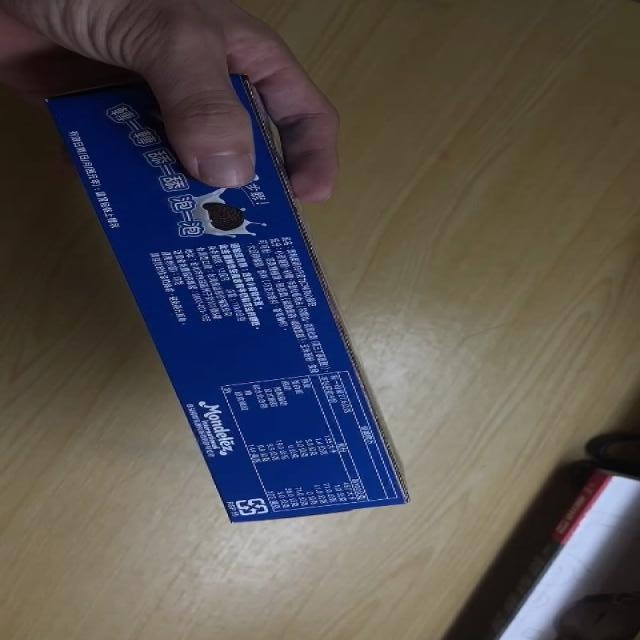Oreo: (47, 74, 413, 523)
